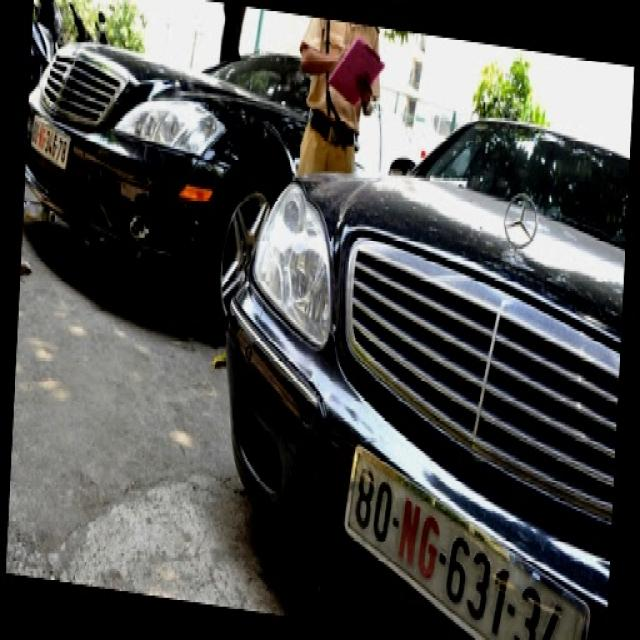bien_ngoai_giao: (340, 438, 589, 640), (25, 112, 70, 176)
